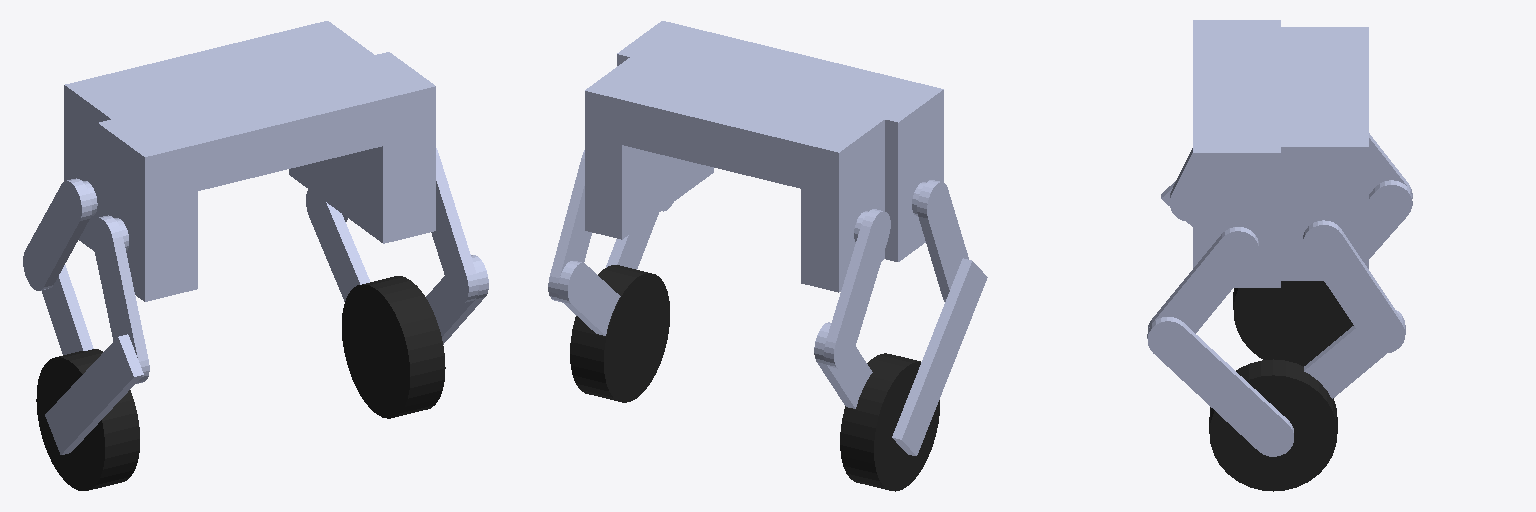
URDF robot description (robot.SLDASM):
<?xml version='1.0' encoding='UTF-8'?>
<!-- Legged Robot V3 — STL visuals + box collision shapes (lightweight for PhysX).
     Wheel foot_links keep cylinder primitive for smooth rolling contact.
     Inertial properties from SolidWorks export (robot.SLDASM.csv). -->
<robot name="robot.SLDASM">

  <!-- ══════════════════ BASE ══════════════════ -->

  <link name="base_link">
    <inertial>
      <origin xyz="0.119 -0.0078995 -0.10019" rpy="0 0 0"/>
      <mass value="4.6492729048"/>
      <inertia ixx="1.993716E-02" ixy="7.713020E-18" ixz="-2.271684E-18" iyy="4.662480E-02" iyz="1.112191E-18" izz="3.272955E-02"/>
    </inertial>
    <visual>
      <origin xyz="0 0 0" rpy="0 0 0"/>
      <geometry><mesh filename="../meshes/base_link.STL"/></geometry>
      <material name=""><color rgba="0.79216 0.81961 0.93333 1"/></material>
    </visual>
    <collision>
      <origin xyz="0.12 0.09 0.0" rpy="0 0 0"/>
      <geometry><box size="0.35 0.2 0.2"/></geometry>
    </collision>
  </link>

  <!-- ══════════════════ LEFT LEG ══════════════════ -->

  <link name="left_thigh_link_A1">
    <inertial>
      <origin xyz="0.07 -0.0065 0" rpy="0 0 0"/>
      <mass value="0.1476182766"/>
      <inertia ixx="3.114851E-05" ixy="0.000000E+00" ixz="0.000000E+00" iyy="4.288990E-04" iyz="0.000000E+00" izz="4.019078E-04"/>
    </inertial>
    <visual>
      <origin xyz="0 0 0" rpy="0 0 0"/>
      <geometry><mesh filename="../meshes/left_thigh_link_A1.STL"/></geometry>
      <material name=""><color rgba="0.792156 0.819607 0.933333 1"/></material>
    </visual>
    <collision>
      <origin xyz="0.07 0 0" rpy="0 0 0"/>
      <geometry><box size="0.14 0.025 0.025"/></geometry>
    </collision>
  </link>
  <joint name="left_hip_joint_A1" type="revolute">
    <origin xyz="0.316 0.054 -0.06" rpy="3.1416 0.93114 -1.5708"/>
    <parent link="base_link"/>
    <child link="left_thigh_link_A1"/>
    <axis xyz="0 1 0"/>
    <limit lower="-0.7745" upper="0.7745" effort="20" velocity="50"/>
  </joint>

  <link name="left_shin_link_B1">
    <inertial>
      <origin xyz="-0.09 -0.0065 0" rpy="0 0 0"/>
      <mass value="0.1805684146"/>
      <inertia ixx="3.847714E-05" ixy="0.000000E+00" ixz="0.000000E+00" iyy="7.649134E-04" iyz="0.000000E+00" izz="7.315225E-04"/>
    </inertial>
    <visual>
      <origin xyz="0 0 0" rpy="0 0 0"/>
      <geometry><mesh filename="../meshes/left_shin_link_B1.STL"/></geometry>
      <material name=""><color rgba="0.792156 0.819607 0.933333 1"/></material>
    </visual>
    <collision>
      <origin xyz="-0.09 0 0" rpy="0 0 0"/>
      <geometry><box size="0.18 0.025 0.025"/></geometry>
    </collision>
  </link>
  <joint name="left_knee_joint_B1" type="revolute">
    <origin xyz="0.14 -0.013 0" rpy="3.1416 1.4115 3.1416"/>
    <parent link="left_thigh_link_A1"/>
    <child link="left_shin_link_B1"/>
    <axis xyz="0 1 0"/>
    <limit lower="-0.7745" upper="0.7745" effort="20" velocity="50"/>
  </joint>

  <link name="left_foot_link">
    <inertial>
      <origin xyz="0 -0.015 0" rpy="0 0 0"/>
      <mass value="0.2960462476"/>
      <inertia ixx="2.084159E-04" ixy="0.000000E+00" ixz="0.000000E+00" iyy="3.724259E-04" iyz="0.000000E+00" izz="2.084159E-04"/>
    </inertial>
    <visual>
      <origin xyz="0 0 0" rpy="0 0 0"/>
      <geometry><mesh filename="../meshes/left_foot_link.STL"/></geometry>
      <material name=""><color rgba="0.2 0.2 0.2 1"/></material>
    </visual>
    <!-- Cylinder primitive cho bánh xe — smooth rolling contact -->
    <collision>
      <origin xyz="0 -0.0225 0" rpy="1.5708 0 0"/>
      <geometry><cylinder radius="0.0765" length="0.045"/></geometry>
    </collision>
  </link>
  <joint name="left_wheel_joint" type="continuous">
    <origin xyz="-0.18 0 0" rpy="0 -0.77181 3.1416"/>
    <parent link="left_shin_link_B1"/>
    <child link="left_foot_link"/>
    <axis xyz="0 1 0"/>
  </joint>

  <link name="left_thigh_link_A2">
    <inertial>
      <origin xyz="0.07 -0.0065 0" rpy="0 0 0"/>
      <mass value="0.1476182766"/>
      <inertia ixx="3.114851E-05" ixy="0.000000E+00" ixz="0.000000E+00" iyy="4.288990E-04" iyz="0.000000E+00" izz="4.019078E-04"/>
    </inertial>
    <visual>
      <origin xyz="0 0 0" rpy="0 0 0"/>
      <geometry><mesh filename="../meshes/left_thigh_link_A2.STL"/></geometry>
      <material name=""><color rgba="0.792156 0.819607 0.933333 1"/></material>
    </visual>
    <collision>
      <origin xyz="0.07 0 0" rpy="0 0 0"/>
      <geometry><box size="0.14 0.025 0.025"/></geometry>
    </collision>
  </link>
  <joint name="left_hip_joint_A2" type="revolute">
    <origin xyz="0.298 0.156 -0.06" rpy="0 1.0252 1.5708"/>
    <parent link="base_link"/>
    <child link="left_thigh_link_A2"/>
    <axis xyz="0 1 0"/>
    <limit lower="-0.7745" upper="0.7745" effort="0" velocity="50"/>
  </joint>

  <link name="left_shin_link_B2">
    <inertial>
      <origin xyz="-0.09 0.0065 0" rpy="0 0 0"/>
      <mass value="0.1805684109"/>
      <inertia ixx="3.847714E-05" ixy="0.000000E+00" ixz="0.000000E+00" iyy="7.649134E-04" iyz="0.000000E+00" izz="7.315225E-04"/>
    </inertial>
    <visual>
      <origin xyz="0 0 0" rpy="0 0 0"/>
      <geometry><mesh filename="../meshes/left_shin_link_B2.STL"/></geometry>
      <material name=""><color rgba="0.792156 0.819607 0.933333 1"/></material>
    </visual>
    <collision>
      <origin xyz="-0.09 0 0" rpy="0 0 0"/>
      <geometry><box size="0.18 0.025 0.025"/></geometry>
    </collision>
  </link>
  <joint name="left_knee_joint_B2" type="revolute">
    <origin xyz="0.14 0 0" rpy="3.1416 -1.3743 3.1416"/>
    <parent link="left_thigh_link_A2"/>
    <child link="left_shin_link_B2"/>
    <axis xyz="0 1 0"/>
    <limit lower="-0.7745" upper="0.7745" effort="0" velocity="50"/>
  </joint>

  <!-- ══════════════════ RIGHT LEG ══════════════════ -->

  <link name="right_thigh_link_A1">
    <inertial>
      <origin xyz="0.07 0.0065 0" rpy="0 0 0"/>
      <mass value="0.1476182736"/>
      <inertia ixx="3.114851E-05" ixy="0.000000E+00" ixz="0.000000E+00" iyy="4.288990E-04" iyz="0.000000E+00" izz="4.019078E-04"/>
    </inertial>
    <visual>
      <origin xyz="0 0 0" rpy="0 0 0"/>
      <geometry><mesh filename="../meshes/right_thigh_link_A1.STL"/></geometry>
      <material name=""><color rgba="0.792156 0.819607 0.933333 1"/></material>
    </visual>
    <collision>
      <origin xyz="0.07 0 0" rpy="0 0 0"/>
      <geometry><box size="0.14 0.025 0.025"/></geometry>
    </collision>
  </link>
  <joint name="right_hip_joint_A1" type="revolute">
    <origin xyz="-0.078 0.054 -0.06" rpy="3.1416 1.1505 -1.5708"/>
    <parent link="base_link"/>
    <child link="right_thigh_link_A1"/>
    <axis xyz="0 1 0"/>
    <limit lower="-0.7745" upper="0.7745" effort="20" velocity="50"/>
  </joint>

  <link name="right_shin_link_B1">
    <inertial>
      <origin xyz="-0.09 0.0065 0" rpy="0 0 0"/>
      <mass value="0.1805684109"/>
      <inertia ixx="3.847714E-05" ixy="0.000000E+00" ixz="0.000000E+00" iyy="7.649134E-04" iyz="0.000000E+00" izz="7.315225E-04"/>
    </inertial>
    <visual>
      <origin xyz="0 0 0" rpy="0 0 0"/>
      <geometry><mesh filename="../meshes/right_shin_link_B1.STL"/></geometry>
      <material name=""><color rgba="0.792156 0.819607 0.933333 1"/></material>
    </visual>
    <collision>
      <origin xyz="-0.09 0 0" rpy="0 0 0"/>
      <geometry><box size="0.18 0.025 0.025"/></geometry>
    </collision>
  </link>
  <joint name="right_knee_joint_B1" type="revolute">
    <origin xyz="0.14 0.013 0" rpy="3.1416 1.2092 3.1416"/>
    <parent link="right_thigh_link_A1"/>
    <child link="right_shin_link_B1"/>
    <axis xyz="0 1 0"/>
    <limit lower="-0.7745" upper="0.7745" effort="20" velocity="50"/>
  </joint>

  <link name="right_foot_link">
    <inertial>
      <origin xyz="0 0.015 0" rpy="0 0 0"/>
      <mass value="0.2960462542"/>
      <inertia ixx="2.084159E-04" ixy="0.000000E+00" ixz="0.000000E+00" iyy="3.724259E-04" iyz="0.000000E+00" izz="2.084159E-04"/>
    </inertial>
    <visual>
      <origin xyz="0 0 0" rpy="0 0 0"/>
      <geometry><mesh filename="../meshes/right_foot_link.STL"/></geometry>
      <material name=""><color rgba="0.2 0.2 0.2 1"/></material>
    </visual>
    <!-- Cylinder primitive cho bánh xe — smooth rolling contact -->
    <collision>
      <origin xyz="0 0.0225 0" rpy="1.5708 0 0"/>
      <geometry><cylinder radius="0.0765" length="0.045"/></geometry>
    </collision>
  </link>
  <joint name="right_wheel_joint" type="continuous">
    <origin xyz="-0.18 0 0" rpy="0 -0.43363 3.1416"/>
    <parent link="right_shin_link_B1"/>
    <child link="right_foot_link"/>
    <axis xyz="0 1 0"/>
  </joint>

  <link name="right_thigh_link_A2">
    <inertial>
      <origin xyz="0.07 0.0065 0" rpy="0 0 0"/>
      <mass value="0.1476182736"/>
      <inertia ixx="3.114851E-05" ixy="0.000000E+00" ixz="0.000000E+00" iyy="4.288990E-04" iyz="0.000000E+00" izz="4.019078E-04"/>
    </inertial>
    <visual>
      <origin xyz="0 0 0" rpy="0 0 0"/>
      <geometry><mesh filename="../meshes/right_thigh_link_A2.STL"/></geometry>
      <material name=""><color rgba="0.792156 0.819607 0.933333 1"/></material>
    </visual>
    <collision>
      <origin xyz="0.07 0 0" rpy="0 0 0"/>
      <geometry><box size="0.14 0.025 0.025"/></geometry>
    </collision>
  </link>
  <joint name="right_hip_joint_A2" type="revolute">
    <origin xyz="-0.06 0.156 -0.06" rpy="0 0.95304 1.5708"/>
    <parent link="base_link"/>
    <child link="right_thigh_link_A2"/>
    <axis xyz="0 1 0"/>
    <limit lower="-0.7745" upper="0.7745" effort="0" velocity="50"/>
  </joint>

  <link name="right_shin_link_B2">
    <inertial>
      <origin xyz="-0.09 -0.0065 0" rpy="0 0 0"/>
      <mass value="0.1805684146"/>
      <inertia ixx="3.847714E-05" ixy="0.000000E+00" ixz="0.000000E+00" iyy="7.649134E-04" iyz="0.000000E+00" izz="7.315225E-04"/>
    </inertial>
    <visual>
      <origin xyz="0 0 0" rpy="0 0 0"/>
      <geometry><mesh filename="../meshes/right_shin_link_B2.STL"/></geometry>
      <material name=""><color rgba="0.792156 0.819607 0.933333 1"/></material>
    </visual>
    <collision>
      <origin xyz="-0.09 0 0" rpy="0 0 0"/>
      <geometry><box size="0.18 0.025 0.025"/></geometry>
    </collision>
  </link>
  <joint name="right_knee_joint_B2" type="revolute">
    <origin xyz="0.14 0 0" rpy="3.1416 -1.2928 3.1416"/>
    <parent link="right_thigh_link_A2"/>
    <child link="right_shin_link_B2"/>
    <axis xyz="0 1 0"/>
    <limit lower="-0.7745" upper="0.7745" effort="0" velocity="50"/>
  </joint>

</robot>

--- Render facts (derived) ---
3 views of the same robot in one strip: view 1: azimuth 30°, elevation 25°; view 2: azimuth 150°, elevation 25°; view 3: azimuth 270°, elevation 25° (orthographic).
Model robot.SLDASM with 11 links and 10 joints (8 revolute, 2 continuous), rooted at base_link, posed all joints at 0.
Links seen in each view (by area): view 1: base_link, left_foot_link, right_foot_link, right_shin_link_B1, right_thigh_link_A2, right_thigh_link_A1, left_thigh_link_A1, left_shin_link_B2, right_shin_link_B2, left_shin_link_B1; view 2: base_link, left_foot_link, right_foot_link, right_shin_link_B1, right_thigh_link_A2, right_thigh_link_A1, left_shin_link_B2, left_thigh_link_A2, right_shin_link_B2, left_shin_link_B1; view 3: base_link, left_foot_link, left_shin_link_B1, right_foot_link, left_thigh_link_A2, left_thigh_link_A1, left_shin_link_B2, right_shin_link_B2, right_thigh_link_A1, right_thigh_link_A2.
Link boxes in pixels (x1,y1,x2,y2): base_link: (64, 21, 435, 301); left_foot_link: (342, 276, 445, 418); right_foot_link: (36, 349, 139, 490); right_shin_link_B1: (45, 334, 143, 454); right_thigh_link_A2: (23, 178, 91, 290); right_thigh_link_A1: (91, 215, 149, 383); left_thigh_link_A1: (431, 148, 478, 303); left_shin_link_B2: (306, 189, 369, 301); right_shin_link_B2: (42, 265, 93, 354); left_shin_link_B1: (426, 255, 488, 344); base_link: (585, 21, 943, 292); left_foot_link: (570, 265, 669, 402); right_foot_link: (840, 353, 939, 491); right_shin_link_B1: (892, 258, 987, 455); right_thigh_link_A2: (824, 209, 890, 368); right_thigh_link_A1: (917, 180, 968, 301); left_shin_link_B2: (558, 261, 620, 335); left_thigh_link_A2: (548, 150, 591, 301); right_shin_link_B2: (814, 322, 872, 408); left_shin_link_B1: (606, 213, 658, 269); base_link: (1193, 20, 1368, 287); left_foot_link: (1209, 359, 1337, 491); left_shin_link_B1: (1147, 317, 1293, 456); right_foot_link: (1233, 281, 1353, 366); left_thigh_link_A2: (1303, 220, 1405, 353); left_thigh_link_A1: (1148, 227, 1258, 333); left_shin_link_B2: (1304, 310, 1405, 398); right_shin_link_B2: (1369, 180, 1412, 258); right_thigh_link_A1: (1170, 148, 1192, 221); right_thigh_link_A2: (1369, 133, 1412, 198).
Size in the robot's own frame: 0.446 by 0.3165 by 0.4486 metres.
11 mesh visuals loaded from 11 distinct referenced files (11 binary STL).
